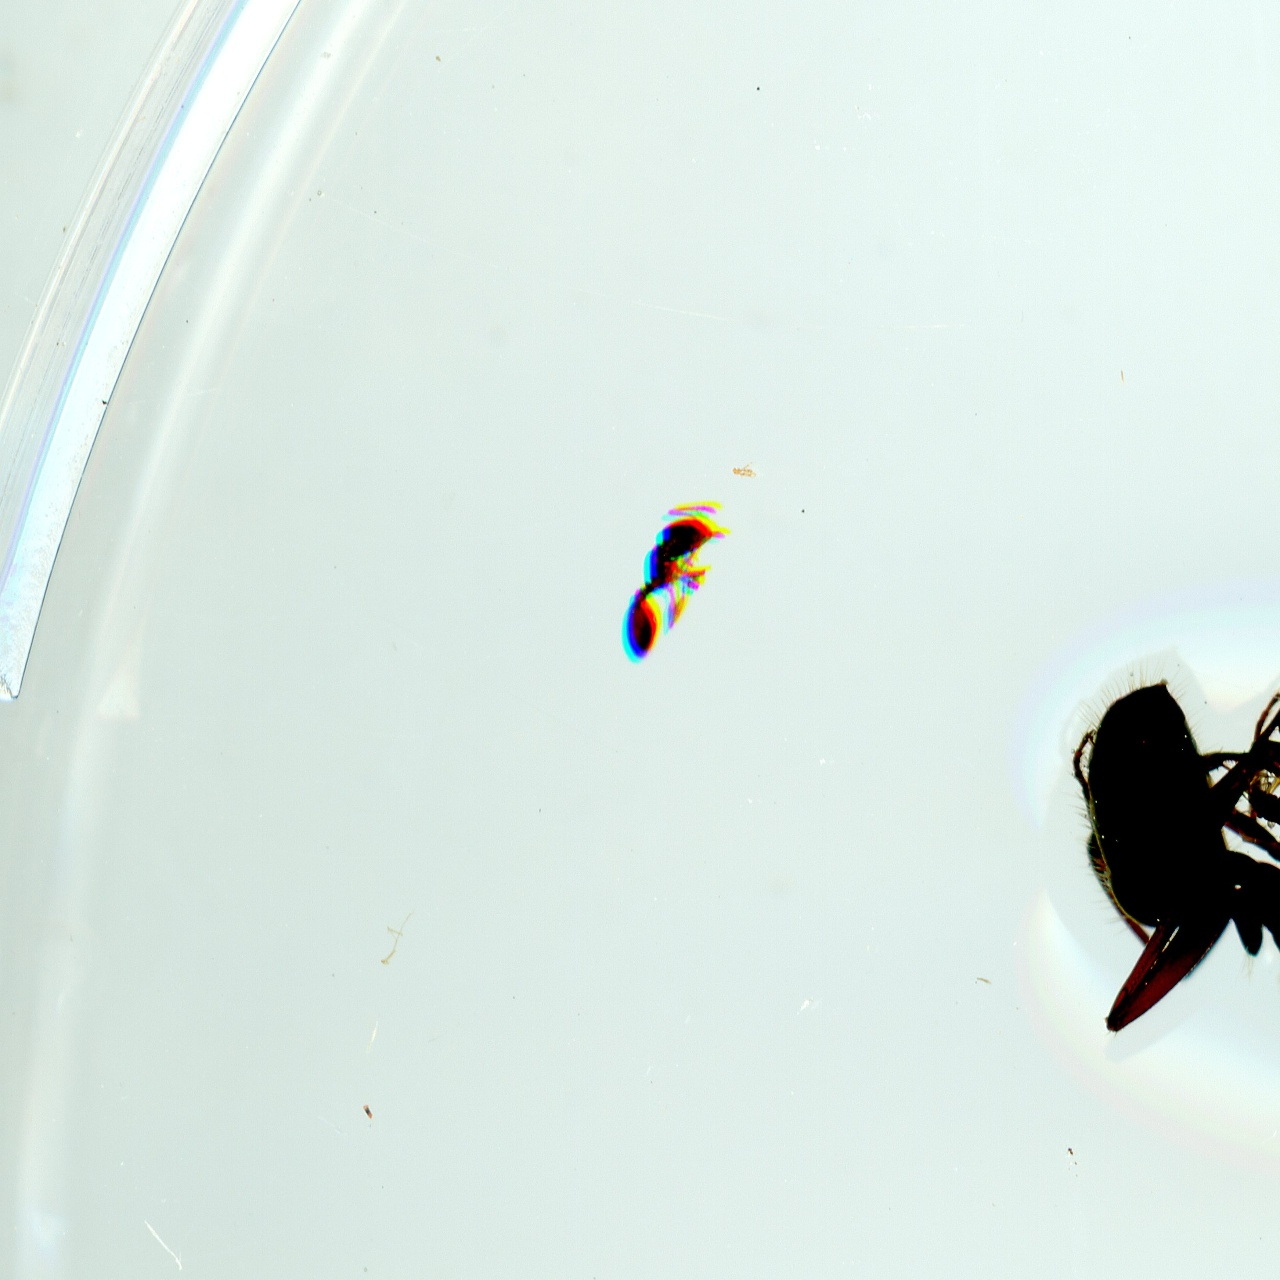arthropod: (1068, 672, 1280, 1031), (614, 503, 719, 658)
